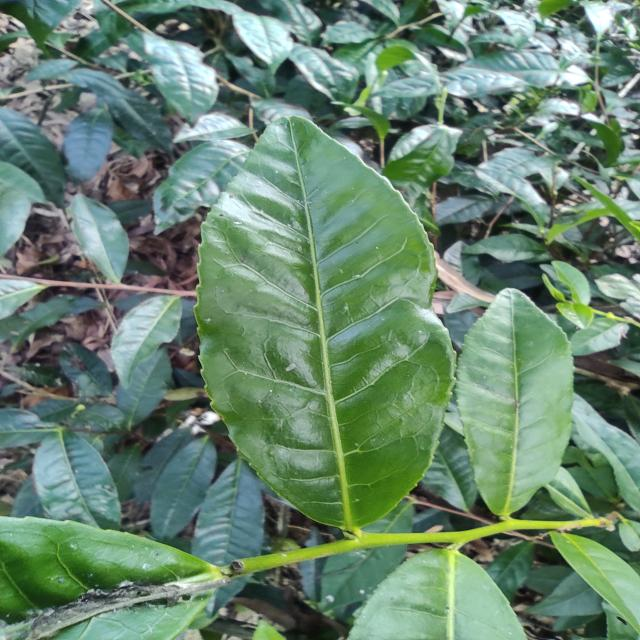Category D 7+ days, Not for Tea: (188, 104, 468, 536)
